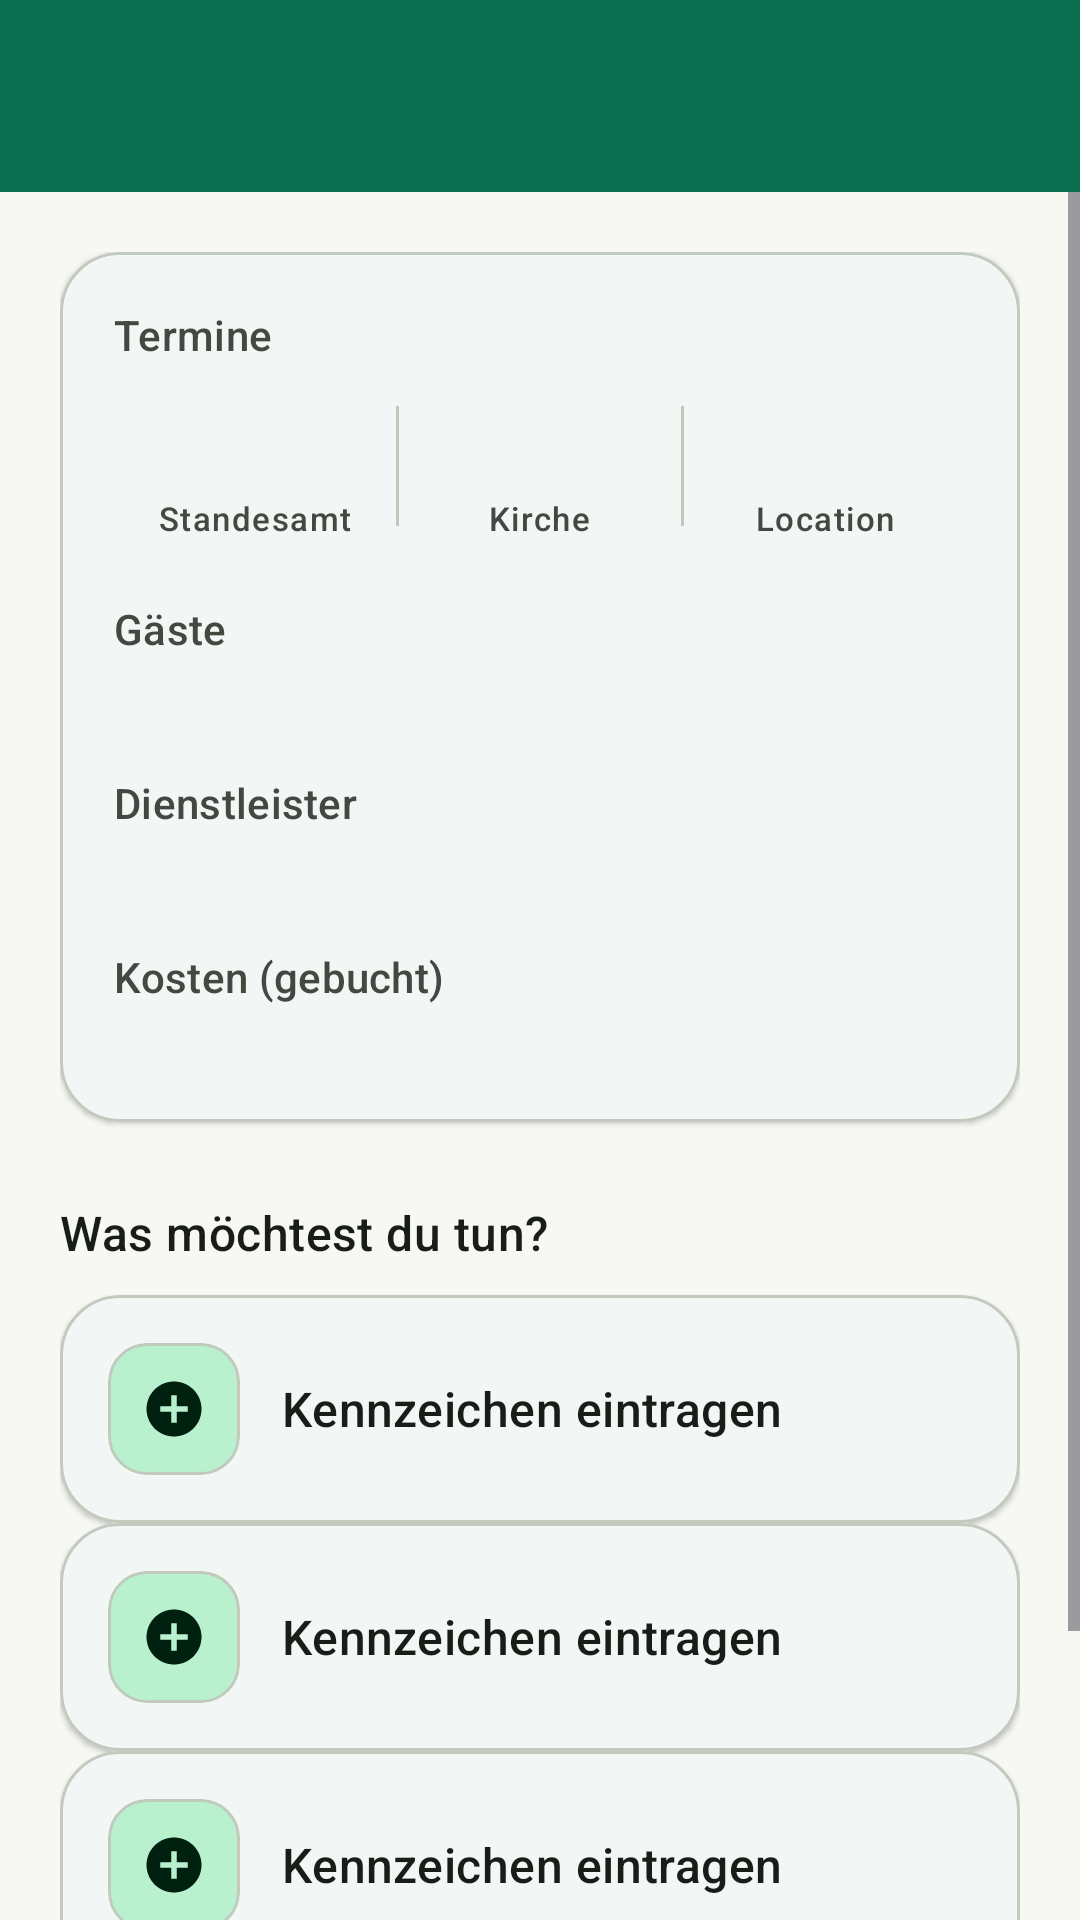

Icons on this 1080*1920 Android screen, each with its box as (x1, y1, x2, y2):
add circle: (146, 1381, 202, 1437), (146, 1609, 202, 1665), (146, 1837, 202, 1893)
